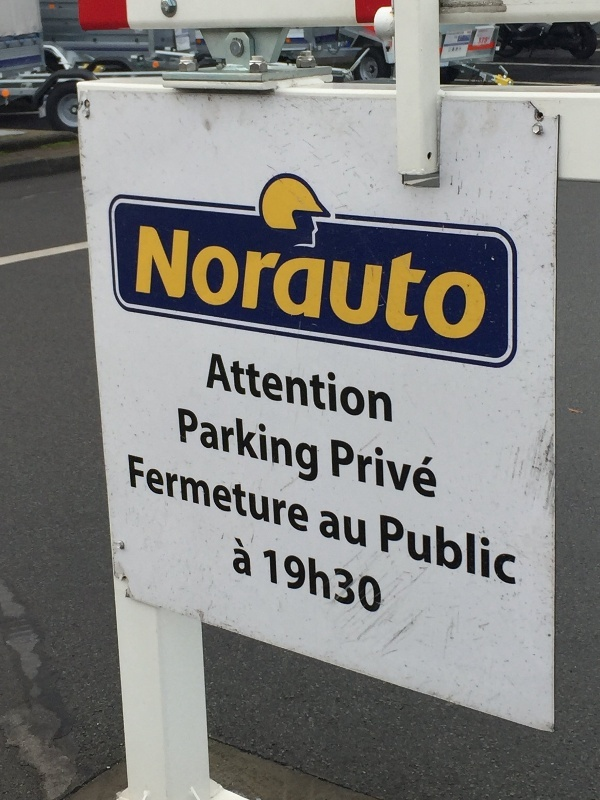text: (145, 219, 160, 347), (161, 219, 176, 347), (177, 219, 192, 347), (193, 219, 208, 347), (209, 219, 224, 347), (225, 219, 240, 347), (241, 219, 256, 347), (257, 219, 272, 347), (273, 219, 288, 347), (289, 219, 304, 347), (305, 219, 320, 347), (321, 219, 336, 347), (337, 219, 352, 347), (353, 219, 368, 347), (369, 219, 384, 347), (385, 219, 400, 347), (401, 219, 416, 347), (417, 219, 432, 347), (433, 219, 448, 347), (449, 219, 464, 347), (465, 219, 480, 347), (129, 452, 144, 535), (145, 452, 160, 535), (161, 452, 176, 535), (177, 452, 192, 535), (193, 452, 208, 535), (209, 452, 224, 535), (225, 452, 240, 535), (241, 452, 256, 535), (257, 452, 272, 535), (273, 452, 288, 535), (289, 452, 304, 535), (177, 406, 192, 486), (193, 406, 208, 486), (209, 406, 224, 486), (225, 406, 240, 486), (241, 406, 256, 486), (257, 406, 272, 486), (273, 406, 288, 486), (289, 406, 304, 486), (225, 351, 240, 427), (241, 351, 256, 427), (257, 351, 272, 427), (273, 351, 288, 427), (289, 351, 304, 427), (305, 351, 320, 427), (321, 351, 336, 427), (337, 351, 352, 427), (353, 351, 368, 427), (369, 351, 384, 427), (385, 513, 400, 588), (401, 513, 416, 588), (417, 513, 432, 588), (433, 513, 448, 588), (449, 513, 464, 588), (465, 513, 480, 588), (481, 513, 496, 588), (497, 513, 512, 588), (305, 406, 319, 486), (273, 547, 288, 619), (289, 547, 304, 619), (305, 547, 320, 619), (321, 547, 336, 619), (337, 547, 352, 619), (353, 547, 368, 619), (211, 351, 224, 427), (337, 437, 352, 501), (353, 437, 368, 501), (369, 437, 384, 501), (385, 437, 400, 501), (401, 437, 416, 501), (417, 437, 432, 501), (369, 547, 382, 619), (481, 219, 487, 347), (262, 547, 272, 619), (321, 507, 336, 550), (337, 507, 352, 550), (353, 507, 368, 550), (139, 219, 144, 347), (385, 351, 393, 427), (241, 535, 252, 578), (433, 437, 439, 501), (305, 452, 309, 535), (331, 437, 336, 501), (233, 535, 240, 578), (380, 513, 384, 588), (513, 513, 517, 588), (127, 452, 128, 535)
